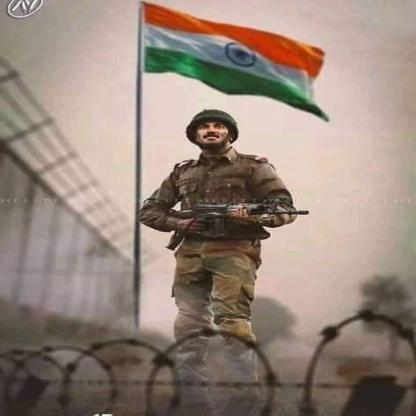rifle: (162, 200, 311, 252)
